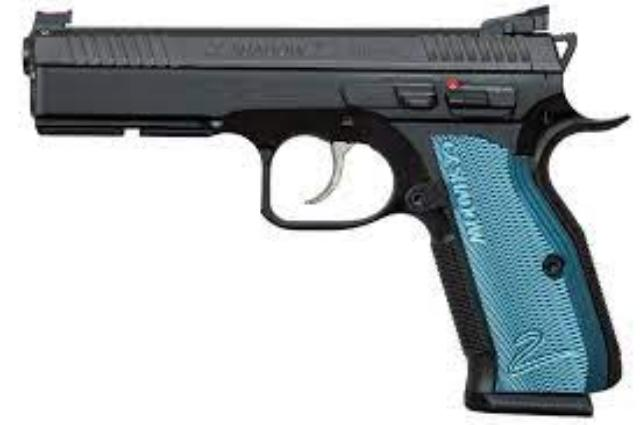handgun: (18, 2, 634, 424)
